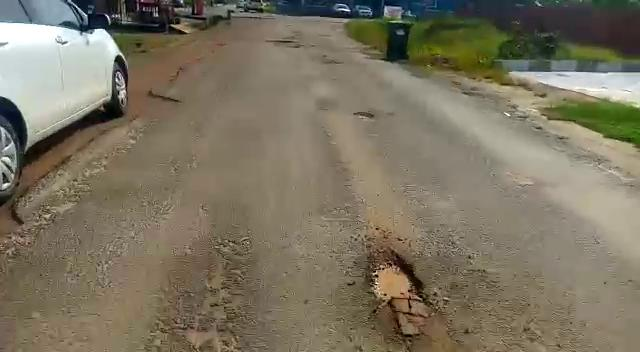pothole: (360, 247, 432, 330), (353, 110, 375, 121)
